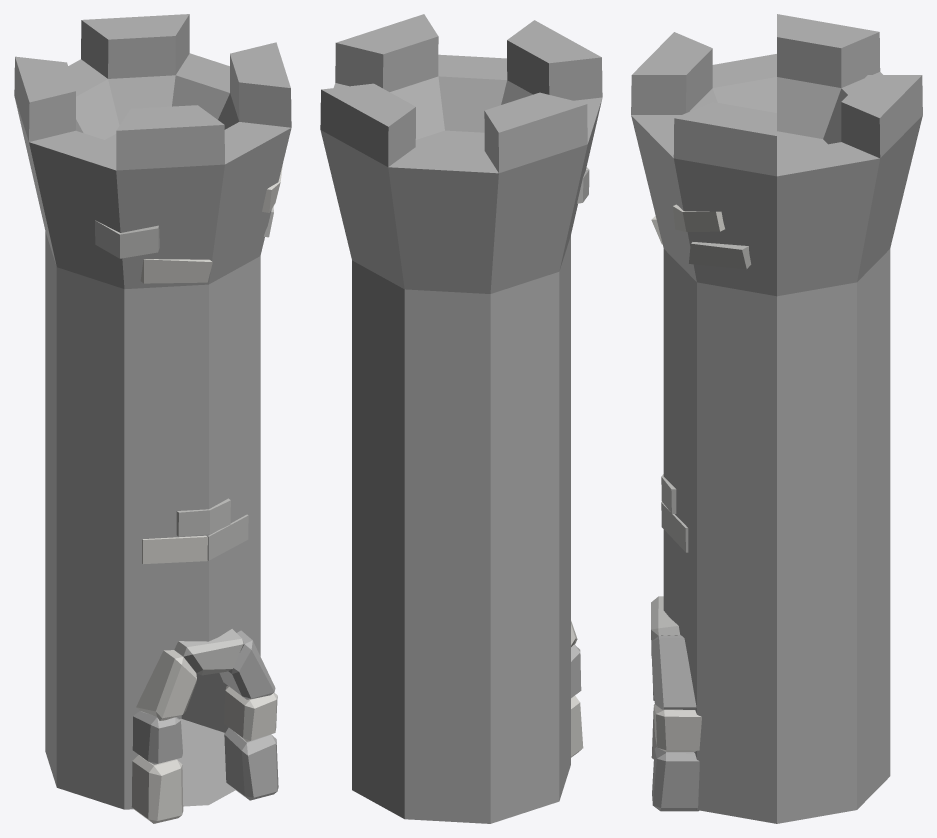
The model's file is tower.obj.
3 renders of one model, left to right at view 1: azimuth 30°, elevation 25°; view 2: azimuth 150°, elevation 25°; view 3: azimuth 270°, elevation 25°, orthographic.
Parts seen in each view (by area): view 1: tower; view 2: tower; view 3: tower.
Boxes of the visible parts, <box> form: tower: <box>14,14,291,823</box>; tower: <box>320,14,602,823</box>; tower: <box>631,14,922,823</box>.
Size of the model in its own units: 4.89 by 13.11 by 4.92.
